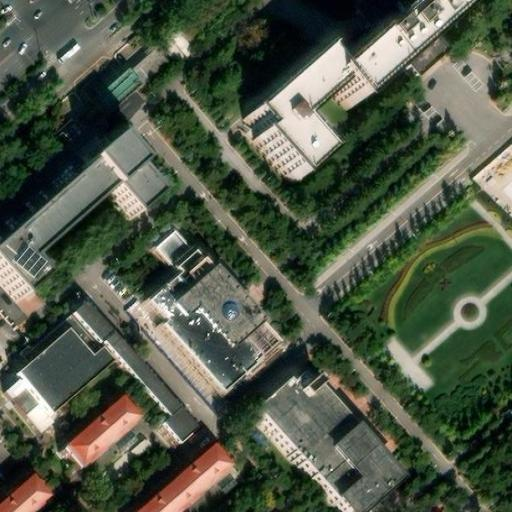building: (0, 141, 161, 318), (249, 380, 401, 512), (142, 252, 275, 399), (73, 301, 198, 444), (329, 0, 482, 106), (250, 50, 340, 184), (15, 326, 112, 413), (137, 443, 236, 512), (62, 395, 143, 472), (1, 377, 57, 436), (125, 40, 169, 83), (100, 61, 142, 103), (151, 231, 191, 271), (0, 480, 47, 512), (0, 286, 28, 329)
